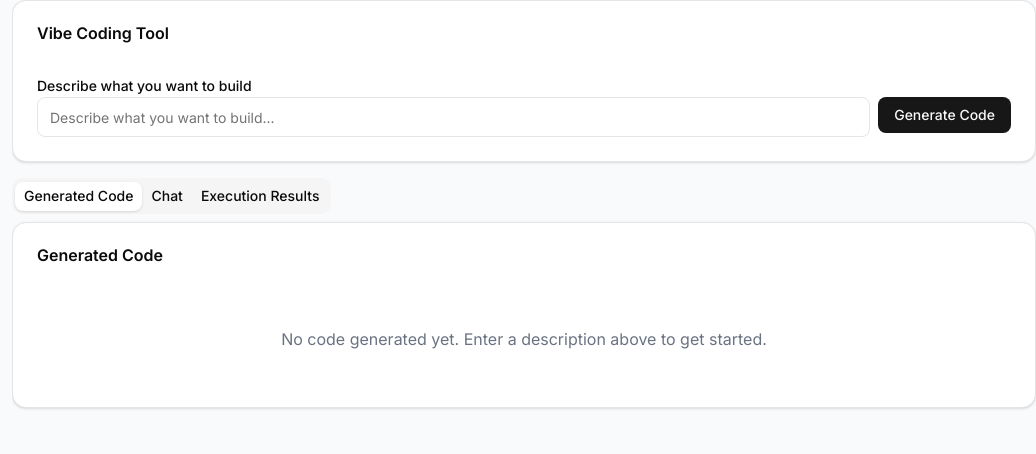
Test case: VibeCodingTool › Natural Language Input › should validate input before generation
Step 1. Click the button "Generate Code" → {"x": 945, "y": 115}, box [878, 97, 1011, 133]
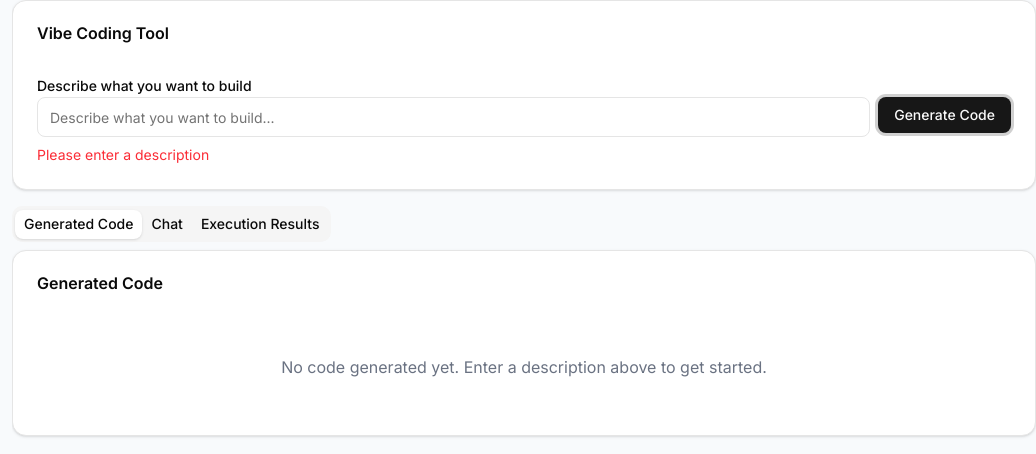
Expected: the text "Please enter a description" is shown, [37, 146, 209, 163]
